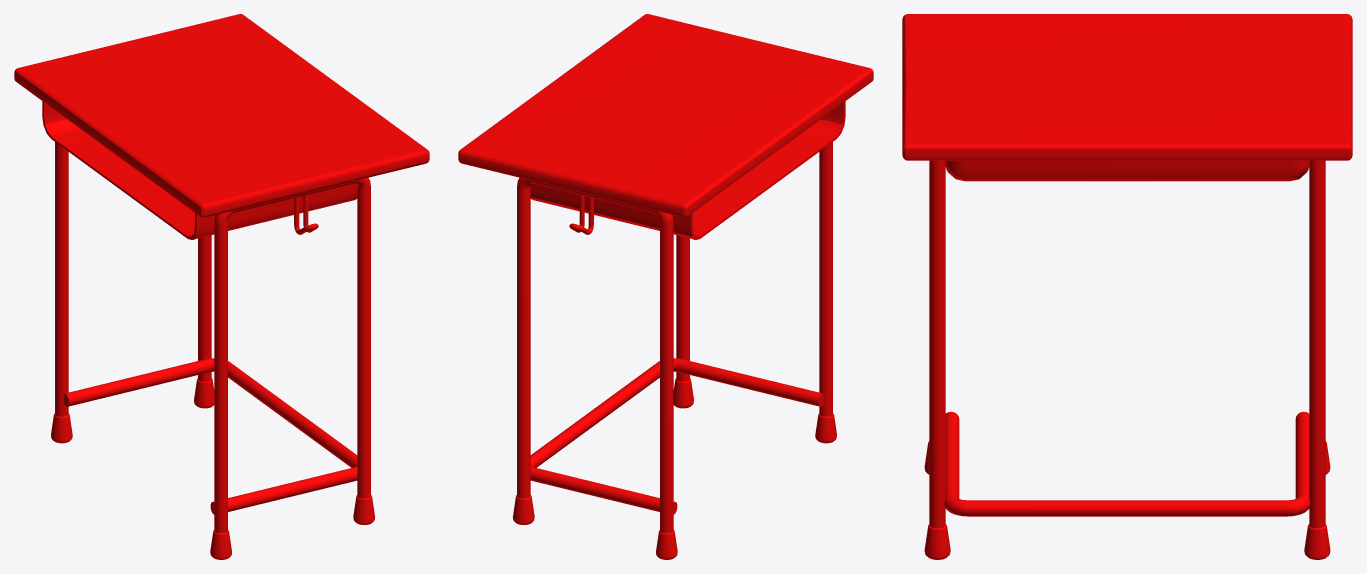
The model's file is desk.fbx.
3 views of the same model, side by side, from view 1: azimuth 30°, elevation 25°; view 2: azimuth 150°, elevation 25°; view 3: azimuth 270°, elevation 25° (orthographic). The views are drawn at different scales.
Parts seen in each view (by area): view 1: Desk_up_main, Desk_pipe3_main, Desk_low_main, Desk_pipe2_main, Desk_pipe_main, Desk_pipe4_main; view 2: Desk_up_main, Desk_pipe2_main, Desk_low_main, Desk_pipe3_main, Desk_pipe_main, Desk_pipe5_main; view 3: Desk_up_main, Desk_pipe_main, Desk_low_main, Desk_pipe2_main, Desk_pipe3_main.
Part boxes in pixels (x1,y1,x2,y2): Desk_up_main: (14, 14, 429, 217); Desk_pipe3_main: (210, 177, 375, 559); Desk_low_main: (42, 101, 357, 239); Desk_pipe2_main: (51, 142, 214, 443); Desk_pipe_main: (63, 358, 357, 514); Desk_pipe4_main: (294, 195, 318, 234); Desk_up_main: (458, 14, 873, 217); Desk_pipe2_main: (512, 177, 677, 559); Desk_low_main: (530, 101, 845, 239); Desk_pipe3_main: (673, 142, 836, 443); Desk_pipe_main: (530, 358, 824, 514); Desk_pipe5_main: (569, 195, 593, 234); Desk_up_main: (902, 14, 1352, 160); Desk_pipe_main: (944, 411, 1310, 516); Desk_low_main: (945, 160, 1309, 181); Desk_pipe2_main: (1304, 160, 1330, 559); Desk_pipe3_main: (924, 160, 950, 559).
Bounding box in the file's own units: 6.79 × 10.46 × 9.68.
